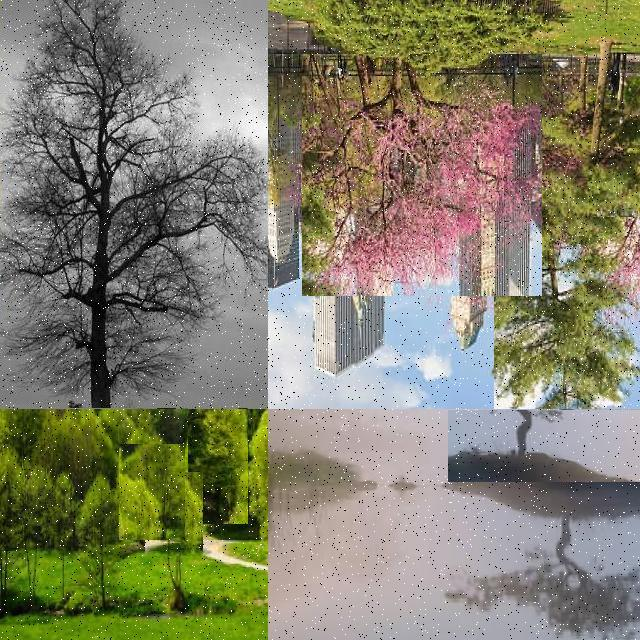tree: (0, 0, 268, 408), (302, 54, 542, 296), (494, 217, 640, 409), (451, 507, 640, 640), (448, 410, 640, 482), (562, 48, 640, 180), (72, 468, 125, 614), (188, 408, 248, 524), (0, 464, 44, 616), (119, 444, 185, 540), (0, 416, 32, 612), (46, 466, 82, 614), (145, 472, 203, 556), (121, 426, 177, 509), (1, 408, 54, 459)
